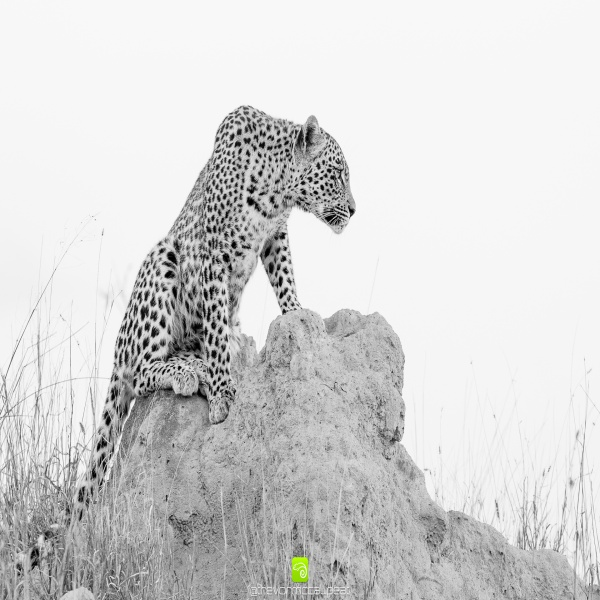Leopard: (16, 98, 360, 574)
